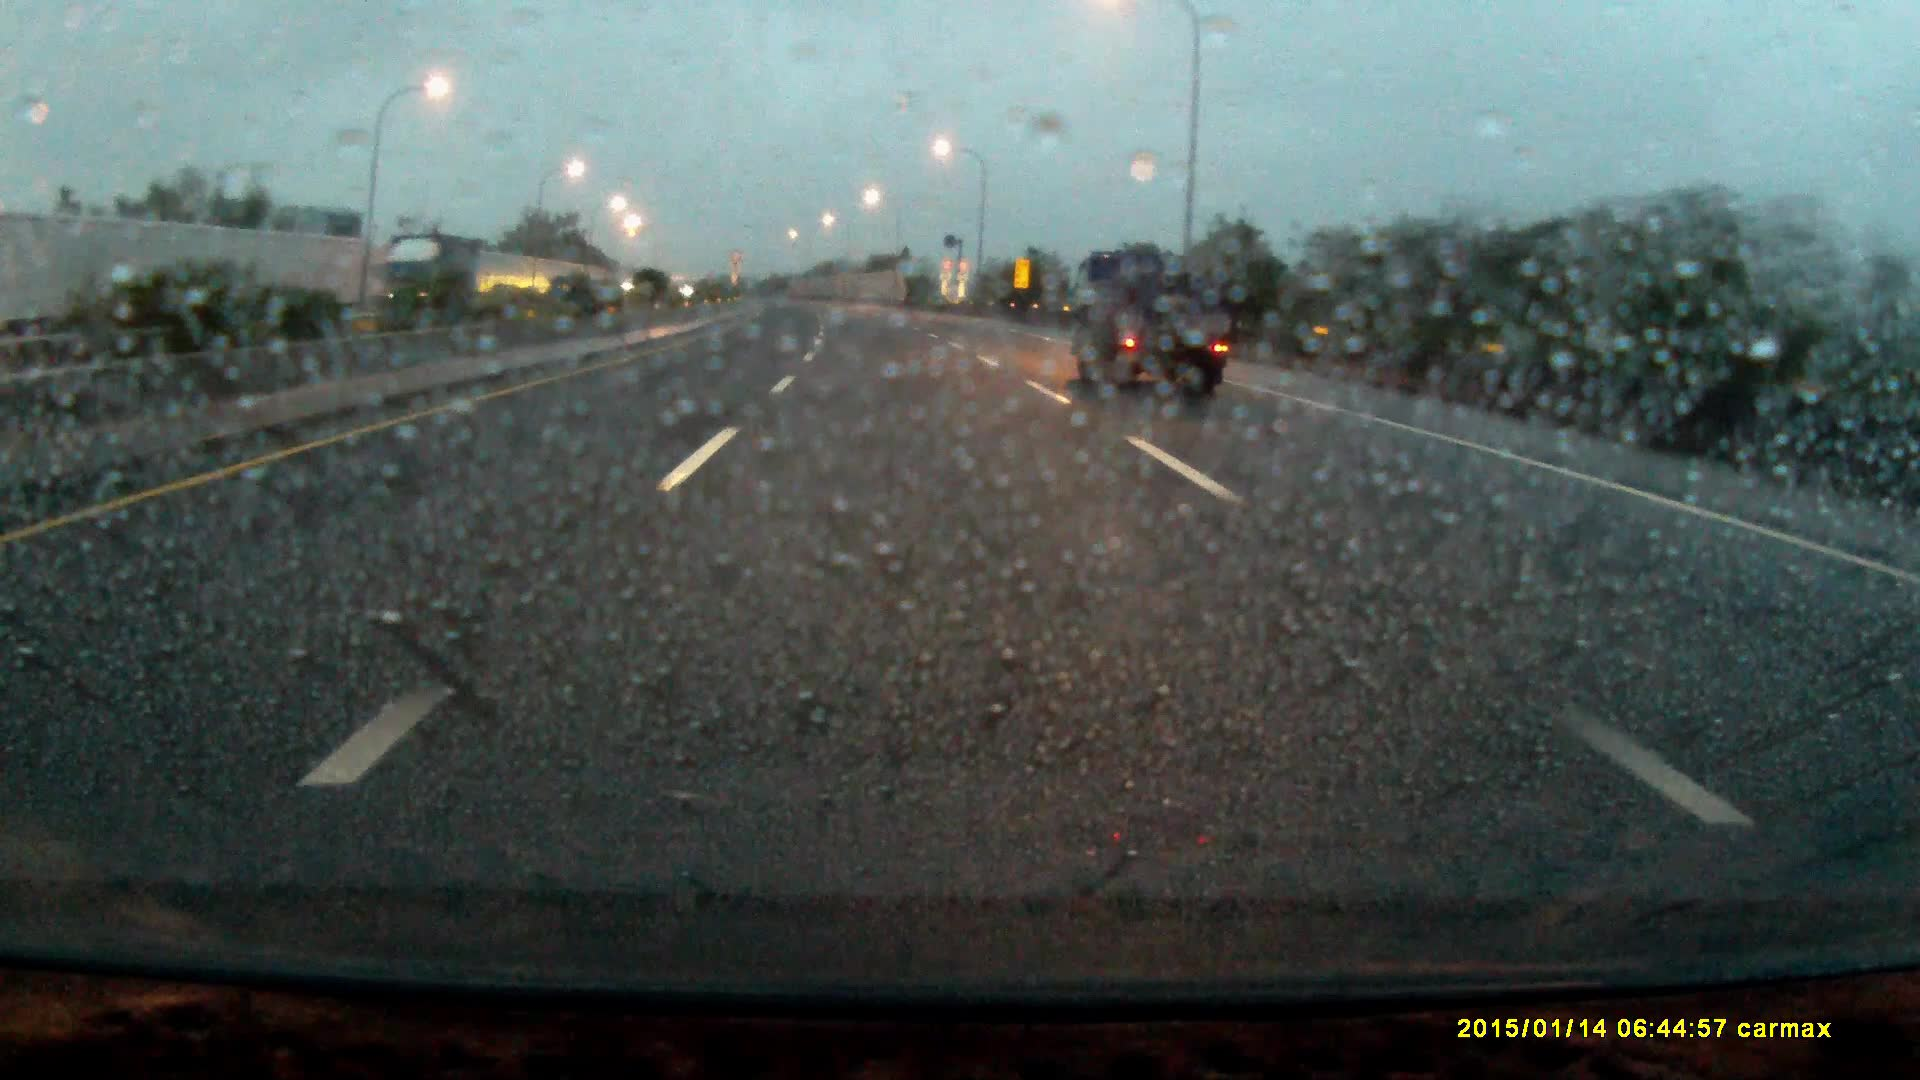vehicle: (1067, 249, 1224, 404), (378, 235, 481, 330)
